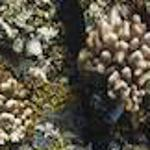alive: (1, 1, 145, 147)
